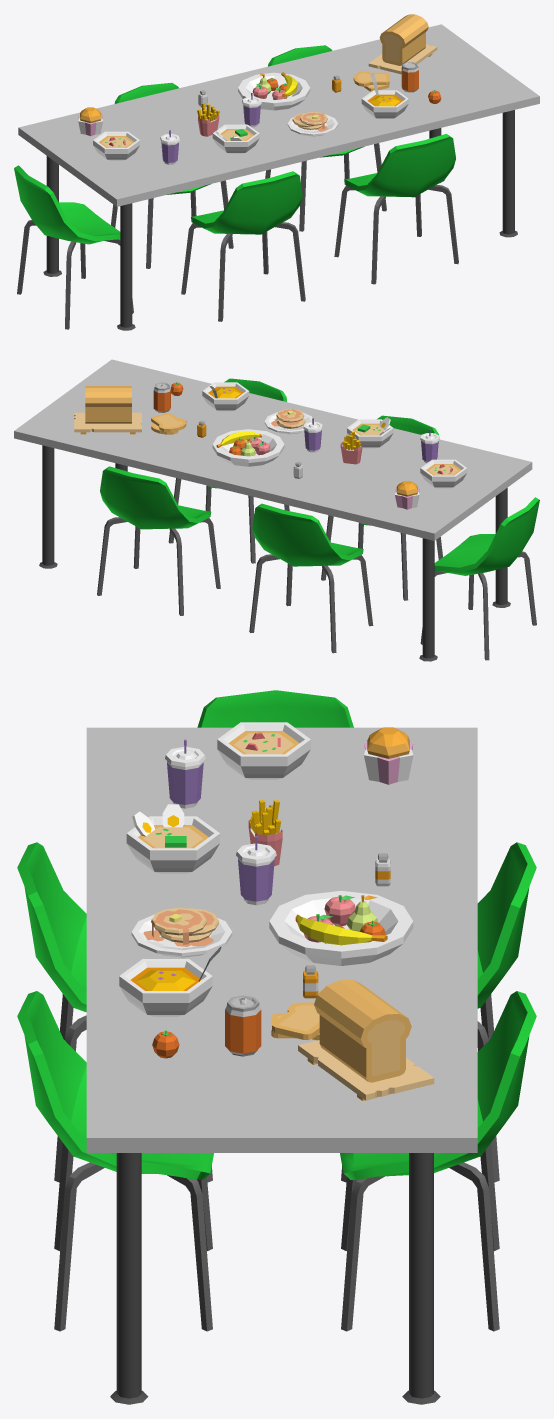
File: CocinaObjetos02.fbx
3 renders of one model, top to bottom at view 1: azimuth 30°, elevation 25°; view 2: azimuth 150°, elevation 25°; view 3: azimuth 270°, elevation 25°, orthographic. The views are drawn at different scales.
Parts seen in each view (by area): view 1: CocinaObjetos02; view 2: CocinaObjetos02; view 3: CocinaObjetos02.
Boxes of the visible parts, x1,y1,x2,y2 form: CocinaObjetos02: (14,14,539,330); CocinaObjetos02: (14,359,539,661); CocinaObjetos02: (17,690,536,1404).
Bounding box in the file's own units: 333 × 121 × 161.
